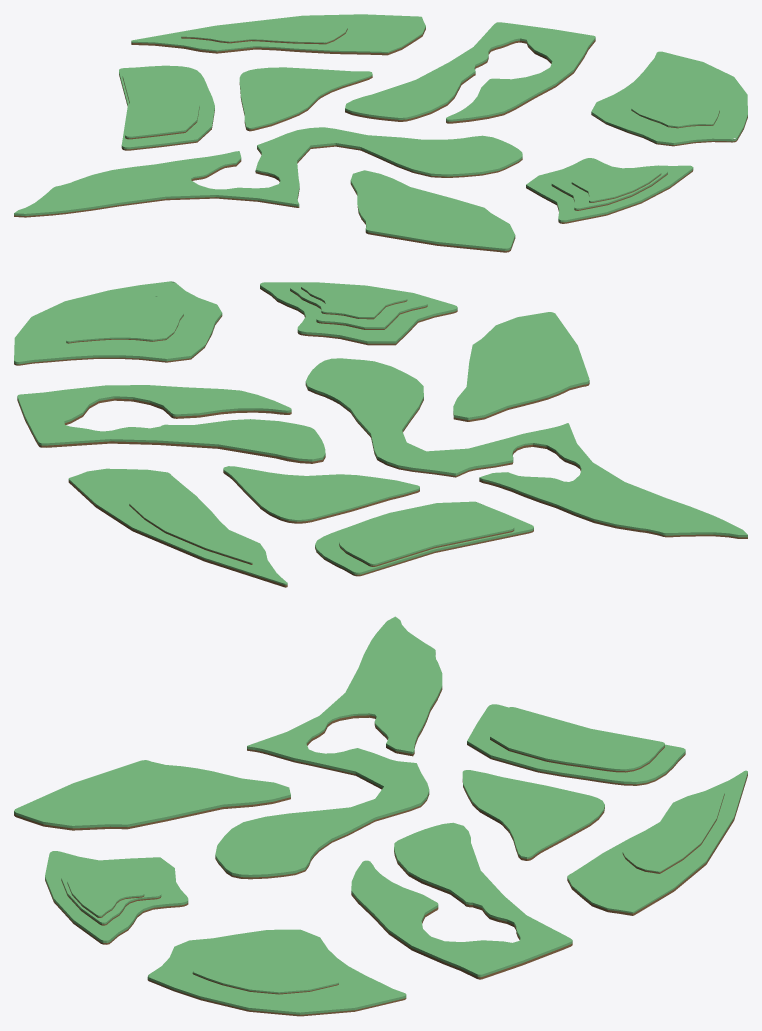
The model's file is Islandsl_tiles.fbx.
3 renders of one model, top to bottom at view 1: azimuth 30°, elevation 25°; view 2: azimuth 150°, elevation 25°; view 3: azimuth 270°, elevation 25°, orthographic. The views are drawn at different scales.
Visible parts, largest first — view 1: polySurface1, polySurface5, polySurface2, polySurface4, polySurface6, polySurface8, polySurface7__1_, polySurface3, polySurface4__1_, polySurface6__1_, polySurface7, polySurface3__2_ (+1 smaller); view 2: polySurface1, polySurface5, polySurface2, polySurface4, polySurface6, polySurface8, polySurface7__1_, polySurface3, polySurface4__1_, polySurface7, polySurface6__1_, polySurface3__2_ (+1 smaller); view 3: polySurface1, polySurface5, polySurface2, polySurface4, polySurface6, polySurface8, polySurface7__1_, polySurface4__1_, polySurface3, polySurface7, polySurface6__1_, polySurface3__2_ (+1 smaller).
Part boxes in pixels (box(x1,y1,x2,y2)): polySurface1: box(14, 127, 522, 217); polySurface5: box(345, 22, 595, 123); polySurface2: box(350, 170, 515, 252); polySurface4: box(591, 51, 747, 146); polySurface6: box(131, 14, 425, 55); polySurface8: box(239, 67, 372, 131); polySurface7__1_: box(122, 71, 199, 139); polySurface3: box(526, 158, 693, 223); polySurface4__1_: box(631, 74, 719, 128); polySurface6__1_: box(181, 21, 347, 44); polySurface7: box(119, 65, 214, 150); polySurface3__2_: box(571, 167, 661, 202); polySurface1: box(305, 358, 747, 538); polySurface5: box(17, 385, 325, 463); polySurface2: box(453, 312, 589, 421); polySurface4: box(14, 281, 222, 365); polySurface6: box(68, 468, 287, 587); polySurface8: box(223, 466, 419, 523); polySurface7__1_: box(339, 507, 514, 566); polySurface3: box(260, 282, 457, 345); polySurface4__1_: box(66, 296, 183, 343); polySurface7: box(315, 501, 533, 576); polySurface6__1_: box(129, 498, 252, 564); polySurface3__2_: box(301, 285, 407, 319); polySurface1: box(215, 616, 442, 879); polySurface5: box(351, 822, 572, 979); polySurface2: box(14, 760, 290, 830); polySurface4: box(147, 929, 406, 1016); polySurface6: box(567, 770, 747, 915); polySurface8: box(462, 770, 604, 860); polySurface7__1_: box(490, 707, 664, 772); polySurface4__1_: box(192, 945, 338, 994); polySurface3: box(45, 851, 188, 944); polySurface7: box(467, 704, 685, 785); polySurface6__1_: box(622, 792, 724, 873); polySurface3__2_: box(67, 867, 144, 917).
Size of the model in its own units: 12087 by 133 by 9475.
Materials: 1 (1 with a texture image).
